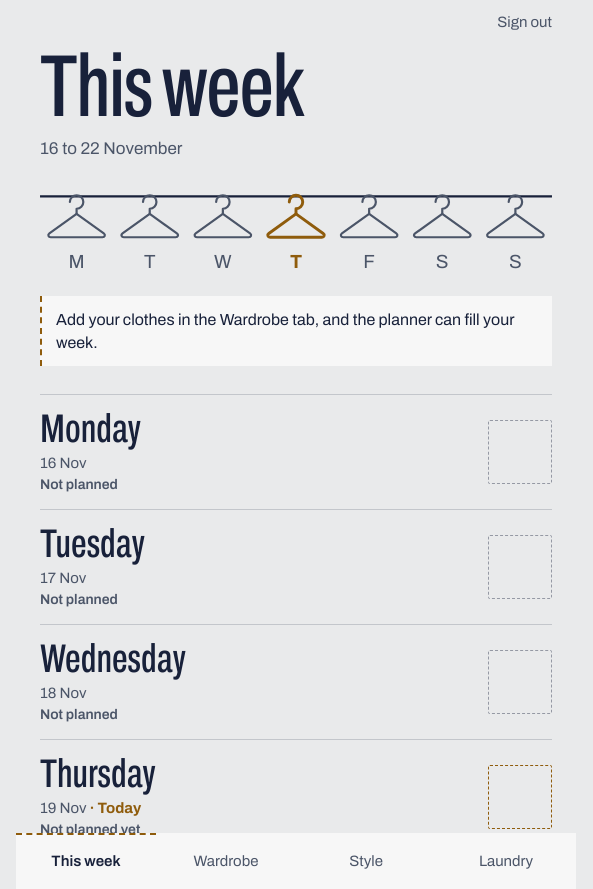
Test: when signed in › opens a day's page from the week
The width and height of the screenshot is (593, 889).
Click the link "Monday 16 Nov Not planned". click: (90, 429)
box: [40,394,552,509]
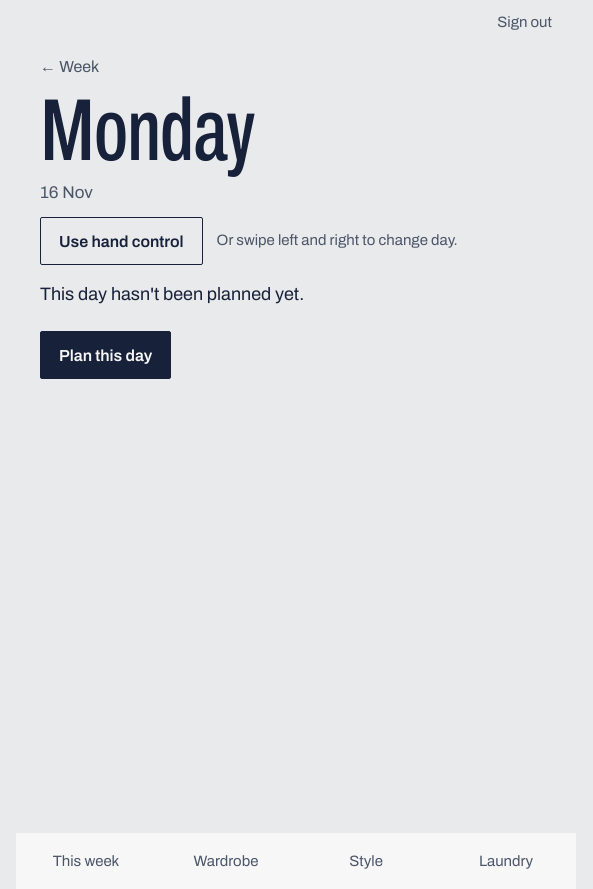
Check: the heading "Monday" is shown, box [40,83,254,178]
